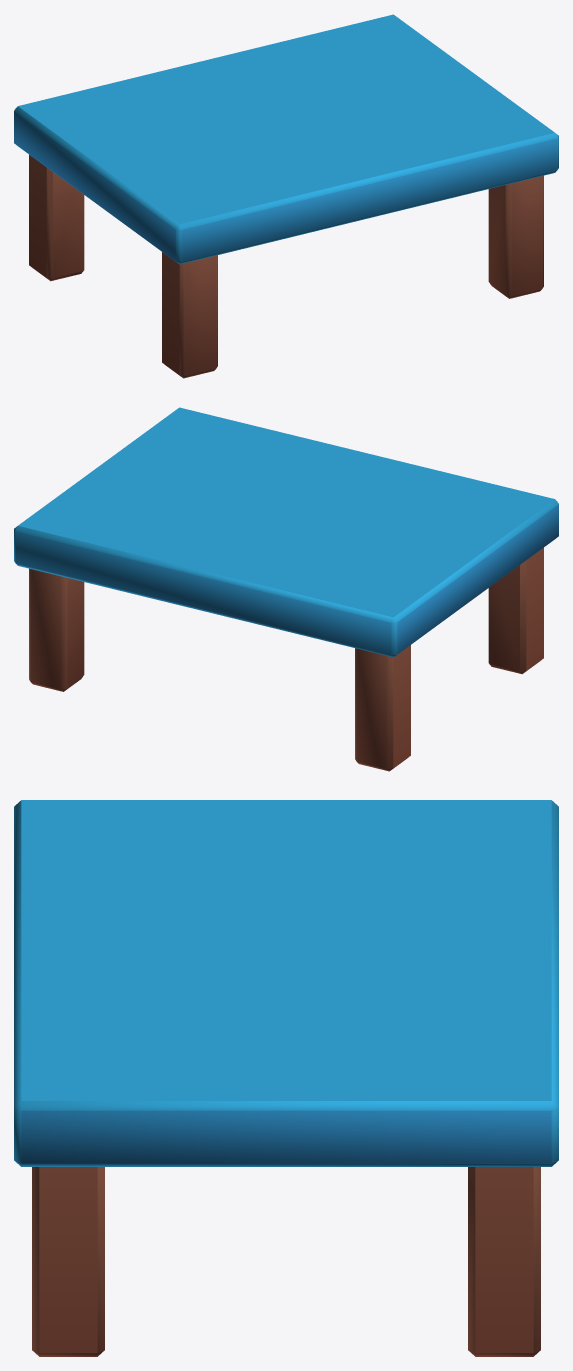
File: table_medium.glb
The picture shows the model from 3 angles, top to bottom: view 1: azimuth 30°, elevation 25°; view 2: azimuth 150°, elevation 25°; view 3: azimuth 270°, elevation 25°; orthographic projection. The views are drawn at different scales.
Parts seen in each view (by area): view 1: table_medium; view 2: table_medium; view 3: table_medium.
Boxes of the visible parts, box(x1,y1,x2,y2) form: table_medium: box(14, 14, 558, 378); table_medium: box(14, 407, 558, 771); table_medium: box(14, 800, 558, 1356).
Bounding box in the file's own units: 2 × 0.8 × 1.5.
Materials: 1 (1 with a texture image).
